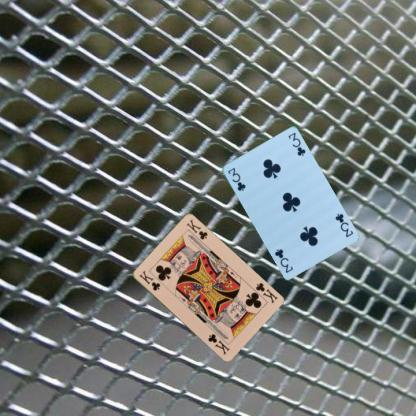3c: (225, 164, 247, 192), (332, 211, 354, 238)
Kc: (136, 268, 162, 292), (252, 280, 278, 304)
